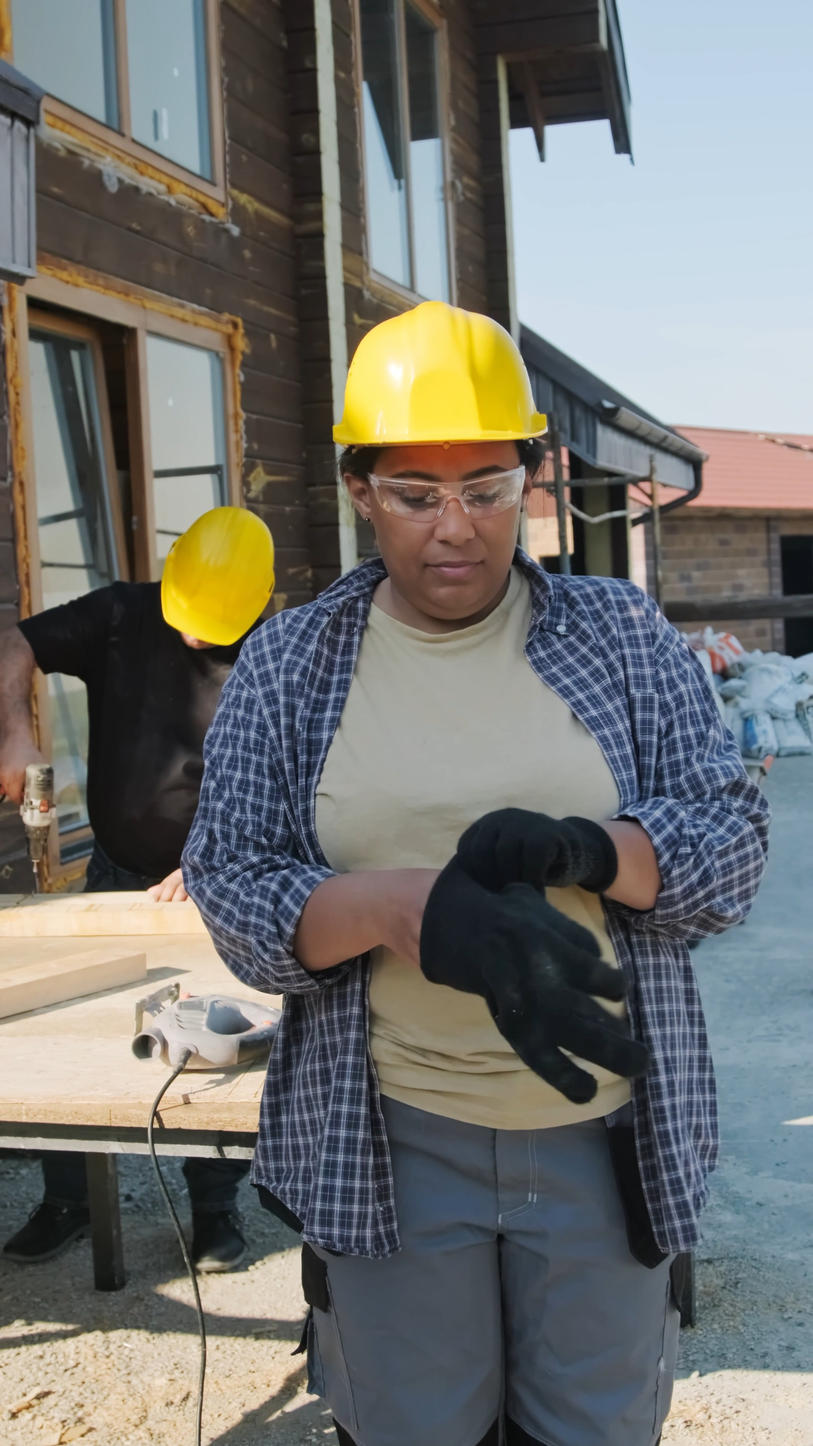gloves: (374, 871, 657, 1103), (459, 795, 638, 918)
